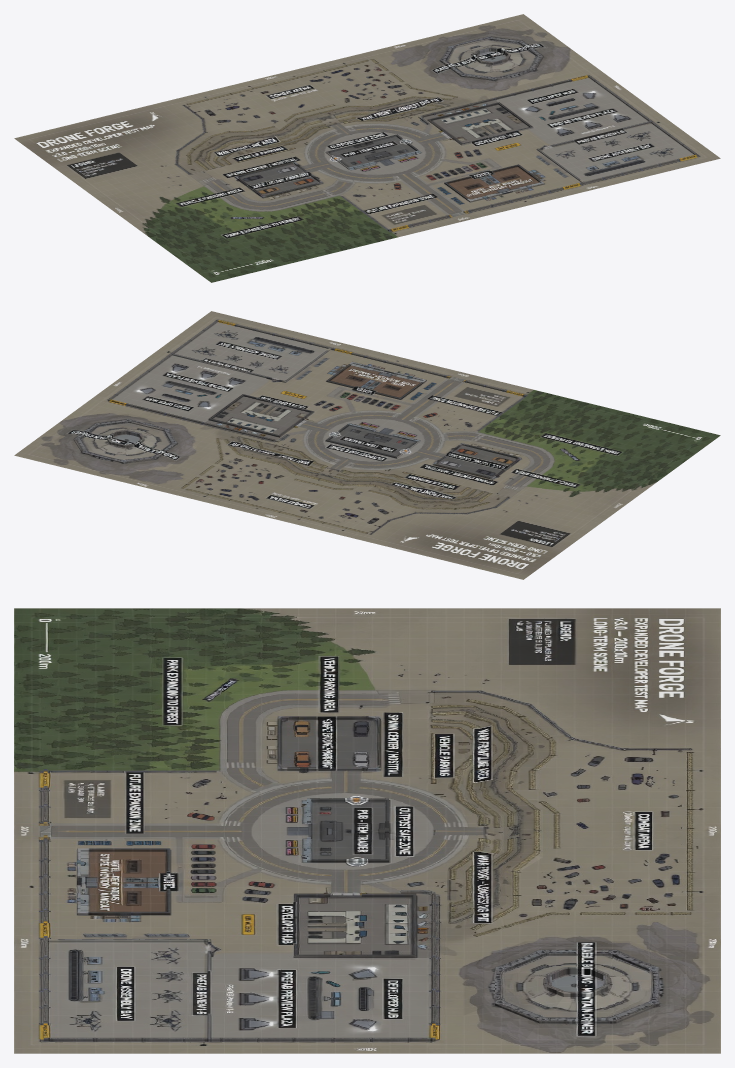
The model's file is Map_Drone_Forge_v1.obj.
The picture shows the model from 3 angles, top to bottom: view 1: azimuth 30°, elevation 25°; view 2: azimuth 150°, elevation 25°; view 3: azimuth 270°, elevation 25°; orthographic projection. The views are drawn at different scales.
Parts seen in each view (by area): view 1: Map_V1_underconstruction; view 2: Map_V1_underconstruction; view 3: Map_V1_underconstruction.
Boxes of the visible parts, <box> form: Map_V1_underconstruction: <box>14,14,720,282</box>; Map_V1_underconstruction: <box>14,311,720,579</box>; Map_V1_underconstruction: <box>14,608,720,1053</box>.
Bounding box in the file's own units: 540 × 7 × 362.
1 material, 1 textured.
